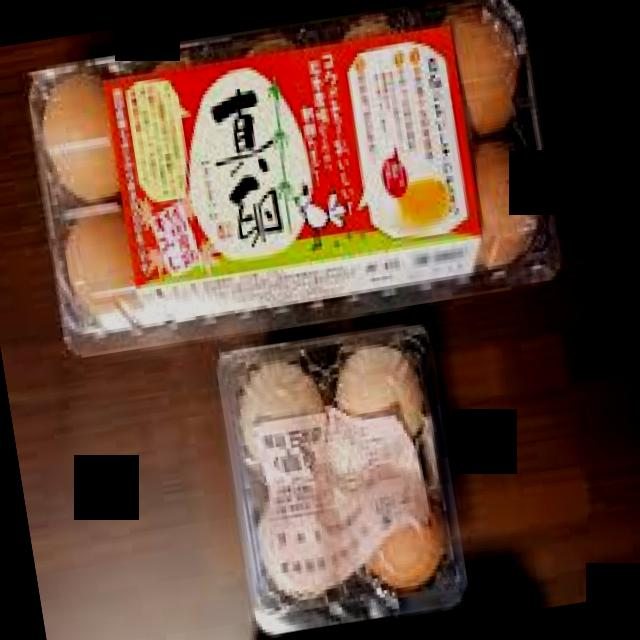egg: (25, 0, 564, 359), (214, 326, 467, 640)
